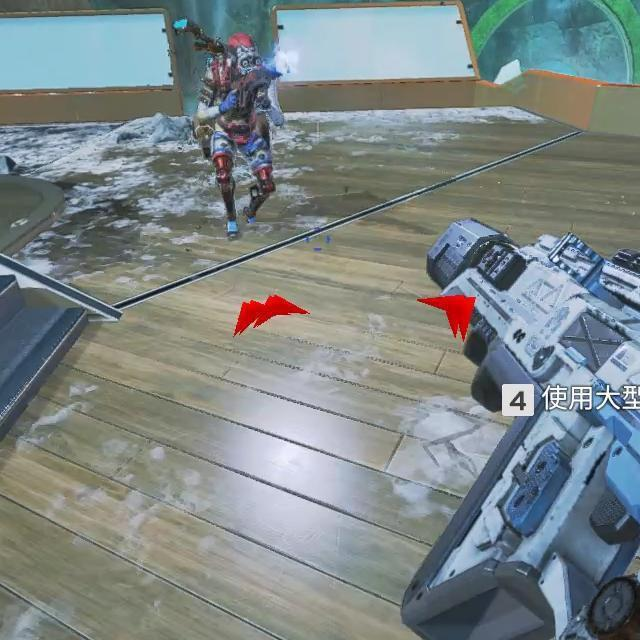avatar: (193, 32, 280, 238)
object: (267, 42, 299, 77)
